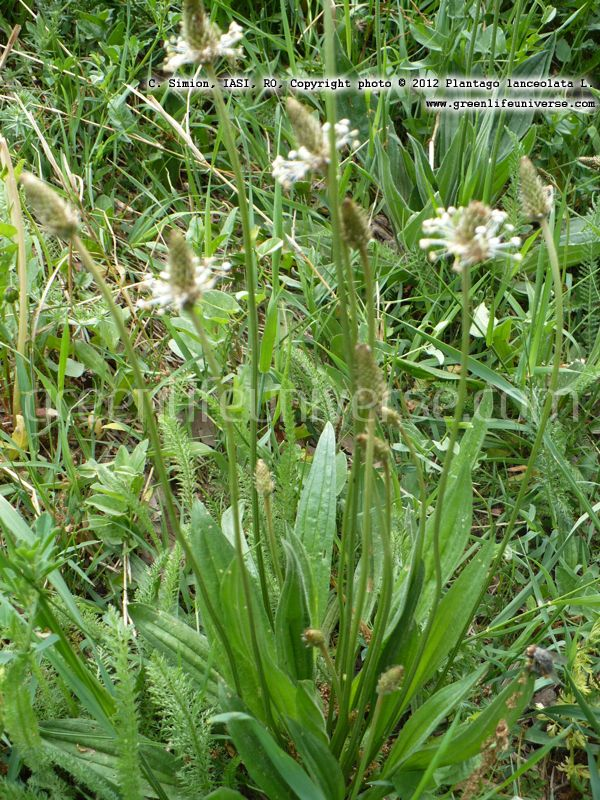buckhorn plantain: (11, 13, 567, 791)
